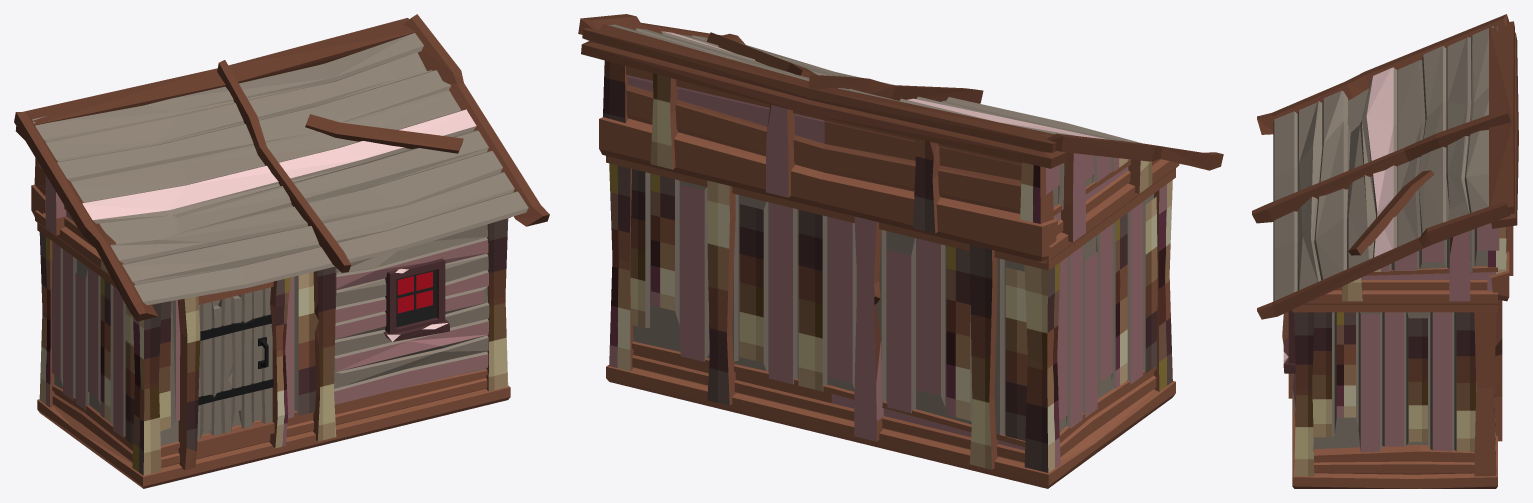
Rendered from SM_Bld_Shanty_SideAttachment_02.glb.
3 renders of one model, left to right at view 1: azimuth 30°, elevation 25°; view 2: azimuth 150°, elevation 25°; view 3: azimuth 270°, elevation 25°, orthographic. The views are drawn at different scales.
Visible parts, largest first — view 1: SM_Bld_Shanty_SideAttachment_02_00; view 2: SM_Bld_Shanty_SideAttachment_02_00; view 3: SM_Bld_Shanty_SideAttachment_02_00.
Boxes of the visible parts, x1,y1,x2,y2 form: SM_Bld_Shanty_SideAttachment_02_00: (14,14,549,488); SM_Bld_Shanty_SideAttachment_02_00: (578,14,1223,488); SM_Bld_Shanty_SideAttachment_02_00: (1252,14,1518,488).
Size of the model in its own units: 5.58 by 3.93 by 3.23.
Materials: 1 (1 with a texture image).
